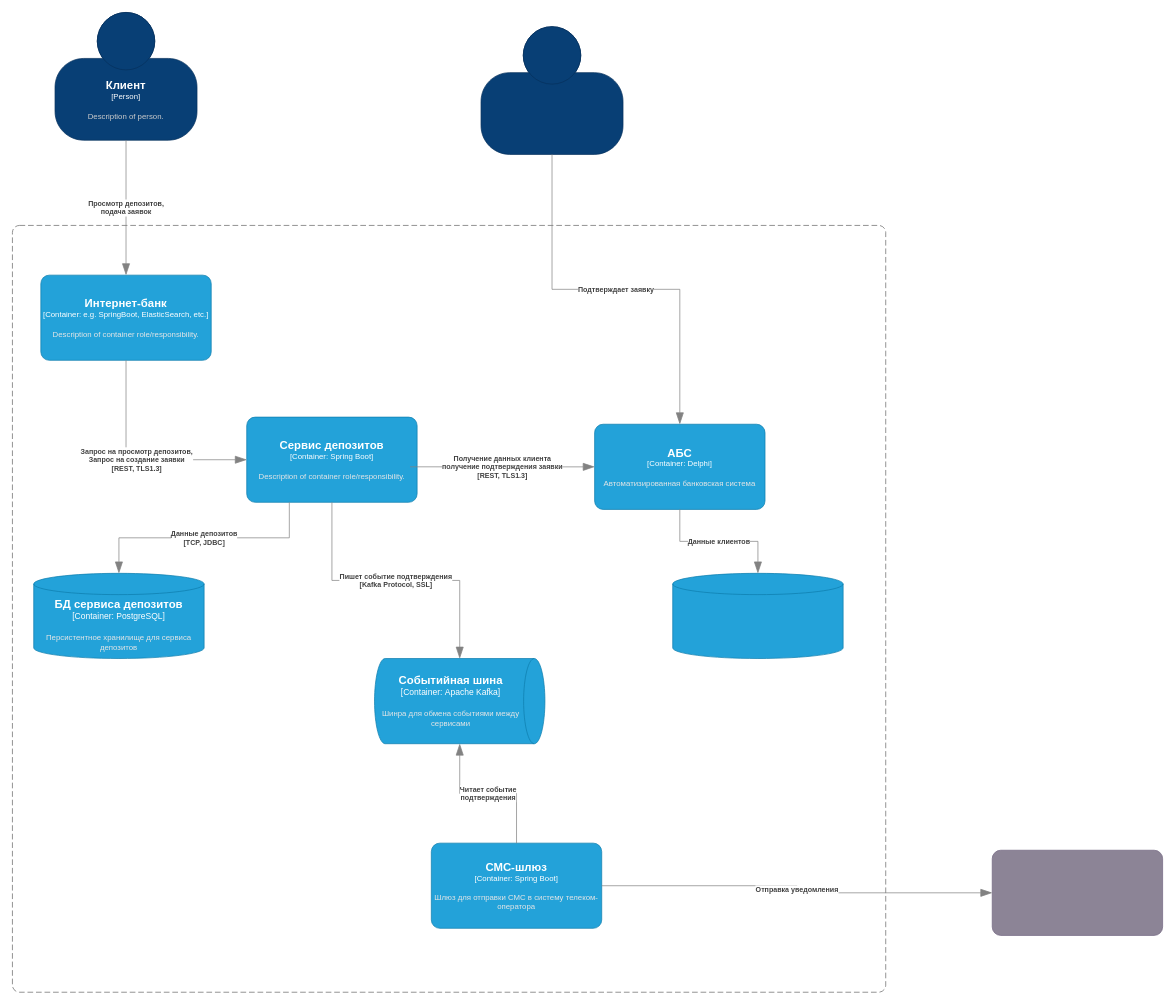
Some shapes in this 1175 by 1005 pixel diagram are drawn without their labels. Each missing label, with the box of its shape:
External system name [Software System] Description of external software system.: (992, 850, 1163, 935)
System name [Software System]: (12, 225, 886, 992)
БД АБС [Container: Oracle] Персистентное хранилище для АБС: (672, 573, 843, 659)
Менеджер [Person] Description of person.: (480, 26, 623, 154)
